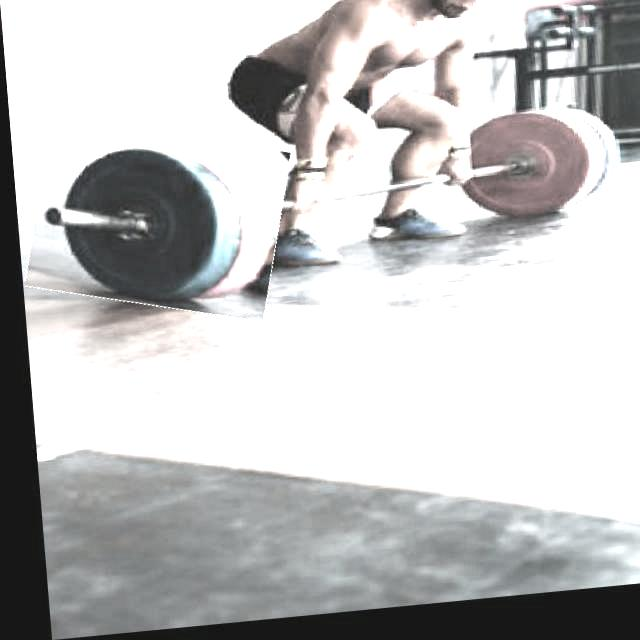barbell: (18, 116, 290, 330)
